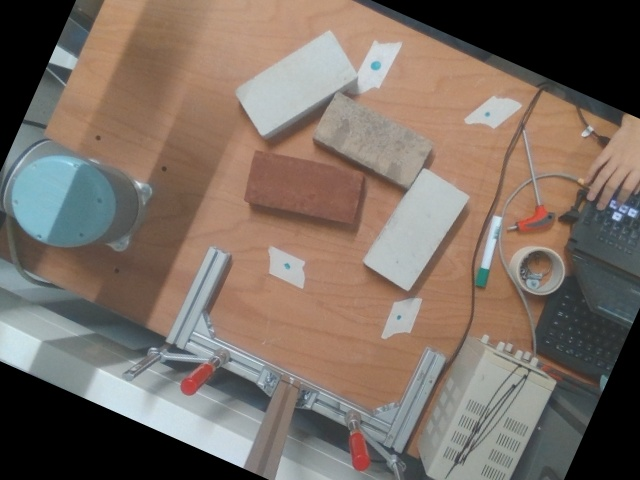brick: (365, 166, 469, 289), (235, 30, 356, 133), (314, 89, 435, 187), (245, 149, 363, 223)
